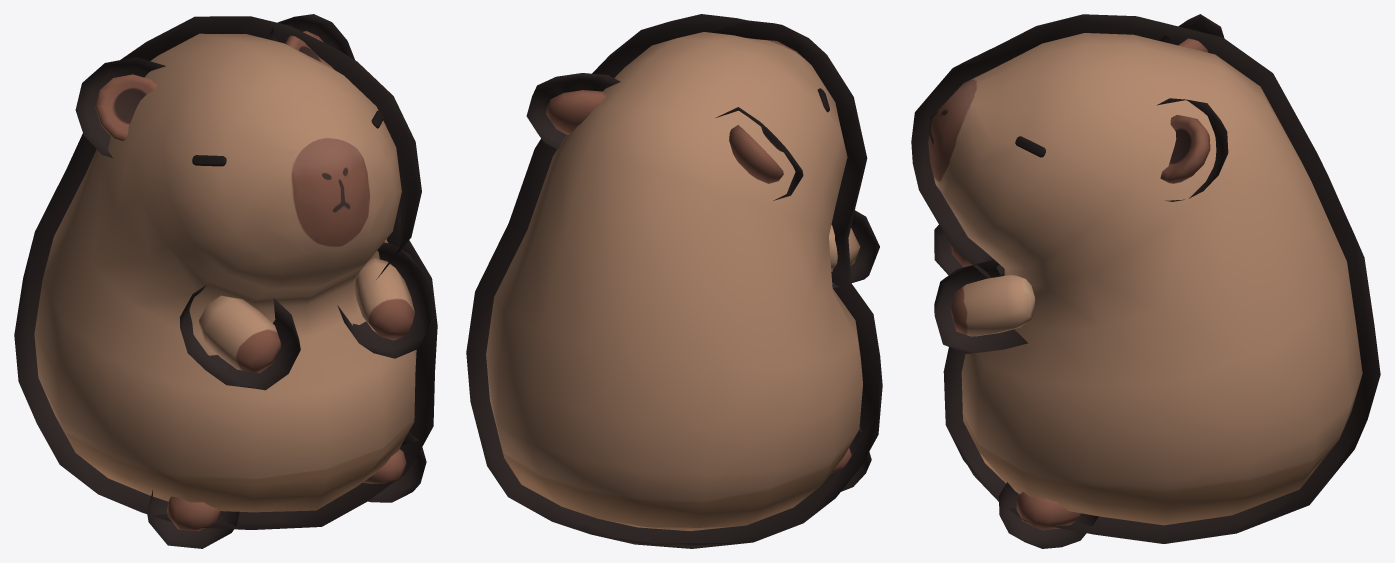
File: capy2.glb
The picture shows the model from 3 angles, left to right: view 1: azimuth 30°, elevation 25°; view 2: azimuth 150°, elevation 25°; view 3: azimuth 270°, elevation 25°; orthographic projection. The views are drawn at different scales.
Visible parts, largest first — view 1: Cube.009, Cube.011, Cube.014; view 2: Cube.009, Cube.011, Cube.014; view 3: Cube.009, Cube.011, Cube.014.
Boxes of the visible parts, x1,y1,x2,y2 form: Cube.009: (34, 31, 416, 531); Cube.011: (14, 14, 437, 548); Cube.014: (179, 242, 434, 390); Cube.009: (486, 32, 862, 531); Cube.011: (466, 14, 882, 548); Cube.014: (829, 210, 879, 288); Cube.009: (928, 33, 1362, 530); Cube.011: (911, 14, 1380, 548); Cube.014: (934, 225, 1035, 353).
Size of the model in its own units: 3.82 by 4.77 by 4.17.
Materials: 1 (1 with a texture image).
